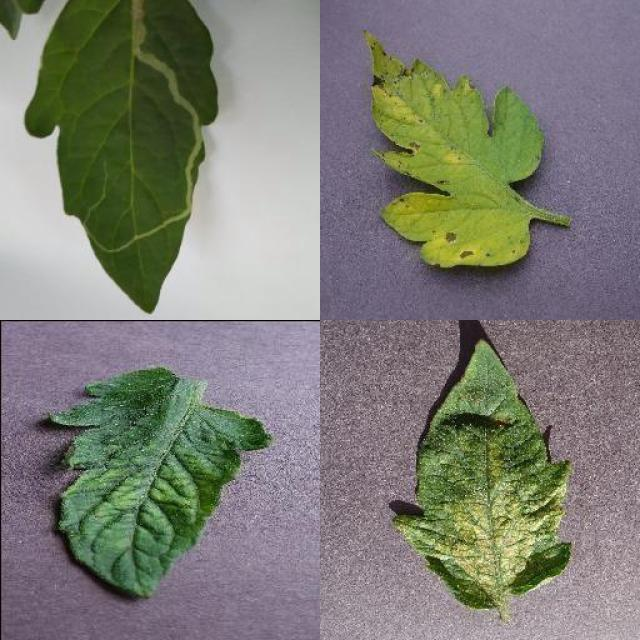Septoria: (362, 25, 542, 270)
